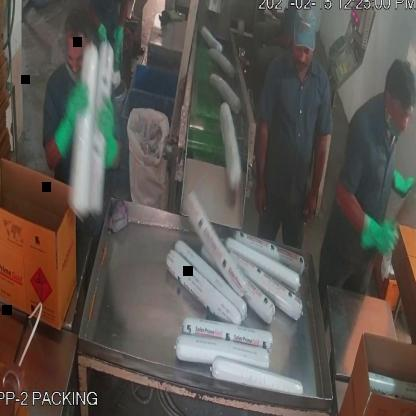glove: (48, 78, 90, 162), (357, 203, 400, 261), (92, 96, 119, 175)
no_glove: (304, 116, 333, 228), (254, 108, 274, 221)
